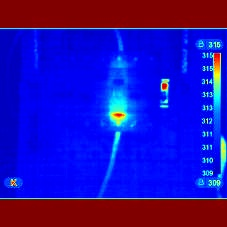Critical: (111, 115, 126, 124)
